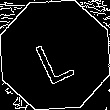L_NW: (30, 26, 80, 84)
